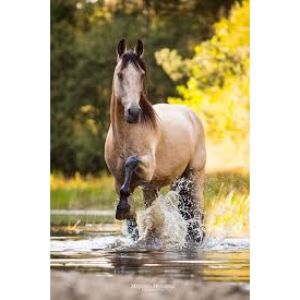horse: (99, 35, 220, 243)
